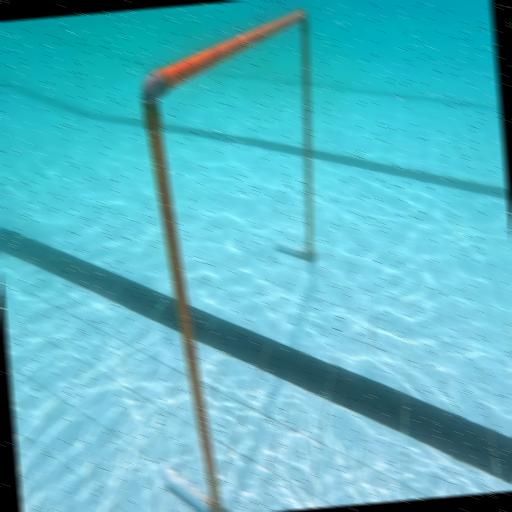gate: (124, 6, 351, 512)
